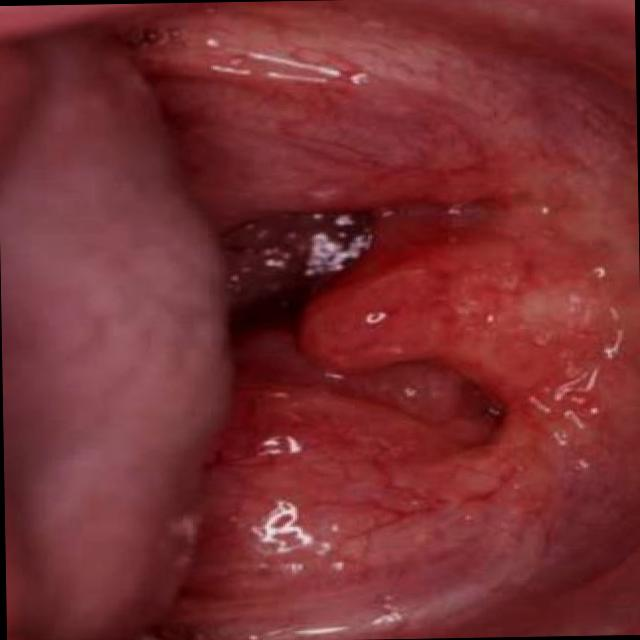Non Pharyngitis: (90, 0, 462, 215), (148, 386, 488, 594)
